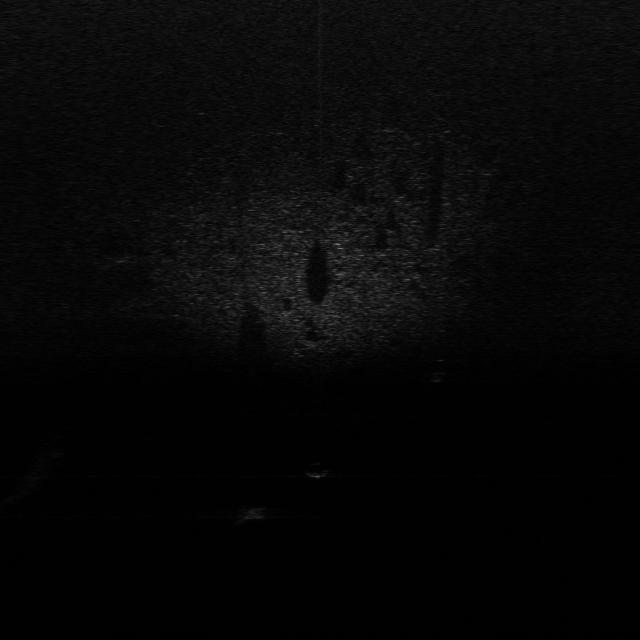ball: (307, 458, 334, 479)
square cage: (226, 501, 273, 523)
tyre: (427, 359, 453, 384)
